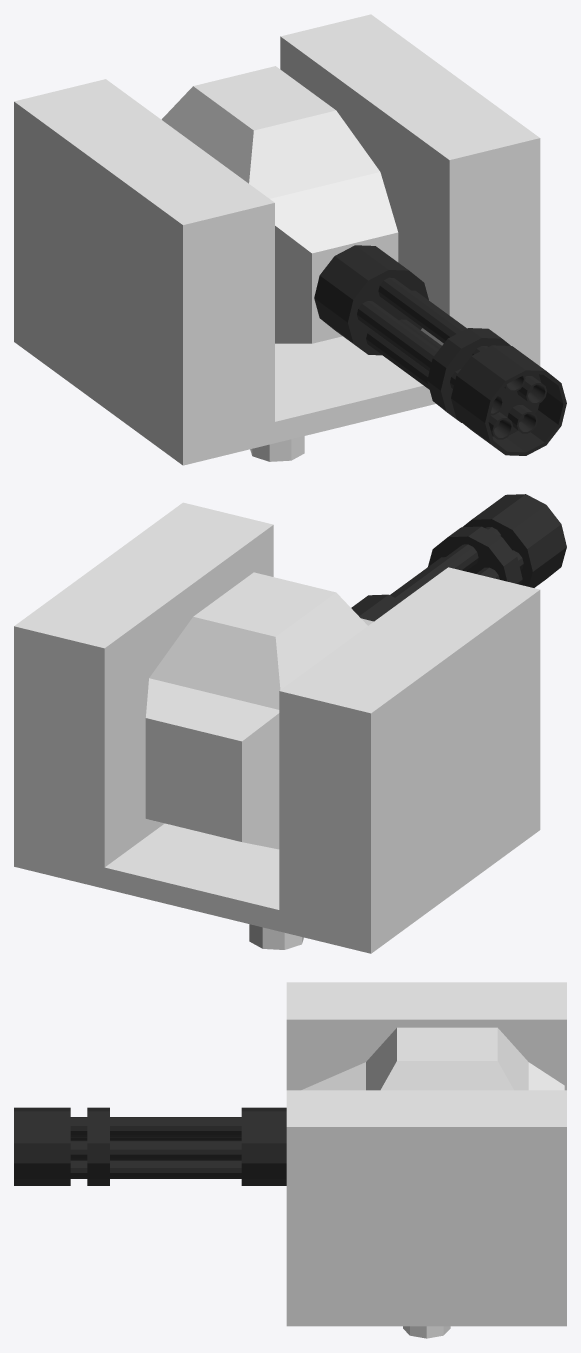
File: Turret_07.fbx
The picture shows the model from 3 angles, top to bottom: view 1: azimuth 30°, elevation 25°; view 2: azimuth 150°, elevation 25°; view 3: azimuth 270°, elevation 25°; orthographic projection. The views are drawn at different scales.
Visible parts, largest first — view 1: Turret_07_Body, Turret_07_GunBody, Turret_07_MainGun, Turret_07_LowerBody; view 2: Turret_07_Body, Turret_07_GunBody, Turret_07_MainGun, Turret_07_LowerBody; view 3: Turret_07_Body, Turret_07_MainGun, Turret_07_GunBody, Turret_07_LowerBody.
Boxes of the visible parts, box(x1,y1,x2,y2) form: Turret_07_Body: box(14, 14, 540, 465); Turret_07_GunBody: box(161, 66, 398, 343); Turret_07_MainGun: box(314, 245, 566, 455); Turret_07_LowerBody: box(250, 436, 304, 461); Turret_07_Body: box(14, 502, 540, 953); Turret_07_GunBody: box(145, 572, 373, 849); Turret_07_MainGun: box(351, 494, 566, 621); Turret_07_LowerBody: box(249, 924, 303, 949); Turret_07_Body: box(286, 982, 566, 1326); Turret_07_MainGun: box(14, 1107, 286, 1185); Turret_07_GunBody: box(301, 1027, 564, 1090); Turret_07_LowerBody: box(403, 1326, 450, 1338).
Size of the model in its own units: 12.29 by 11.27 by 19.88.
